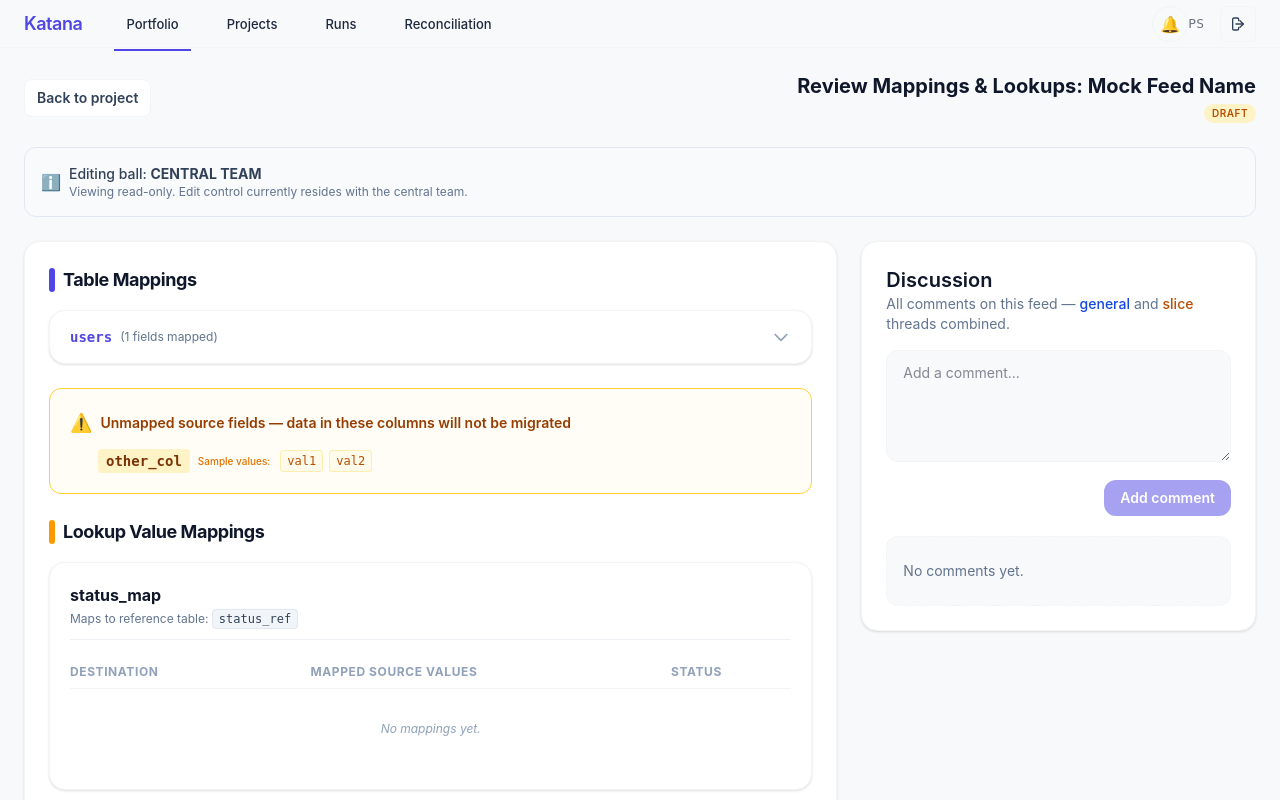
Test: ReviewPage › renders sample value chips under source fields when approved slice is present
Expected: the heading "Review Mappings & Lookups: Mock Feed Name" is shown, [797, 72, 1256, 100]
# Expand accordion
Click the button "users (1 fields mapped)" at [91, 337], box [50, 311, 811, 363]
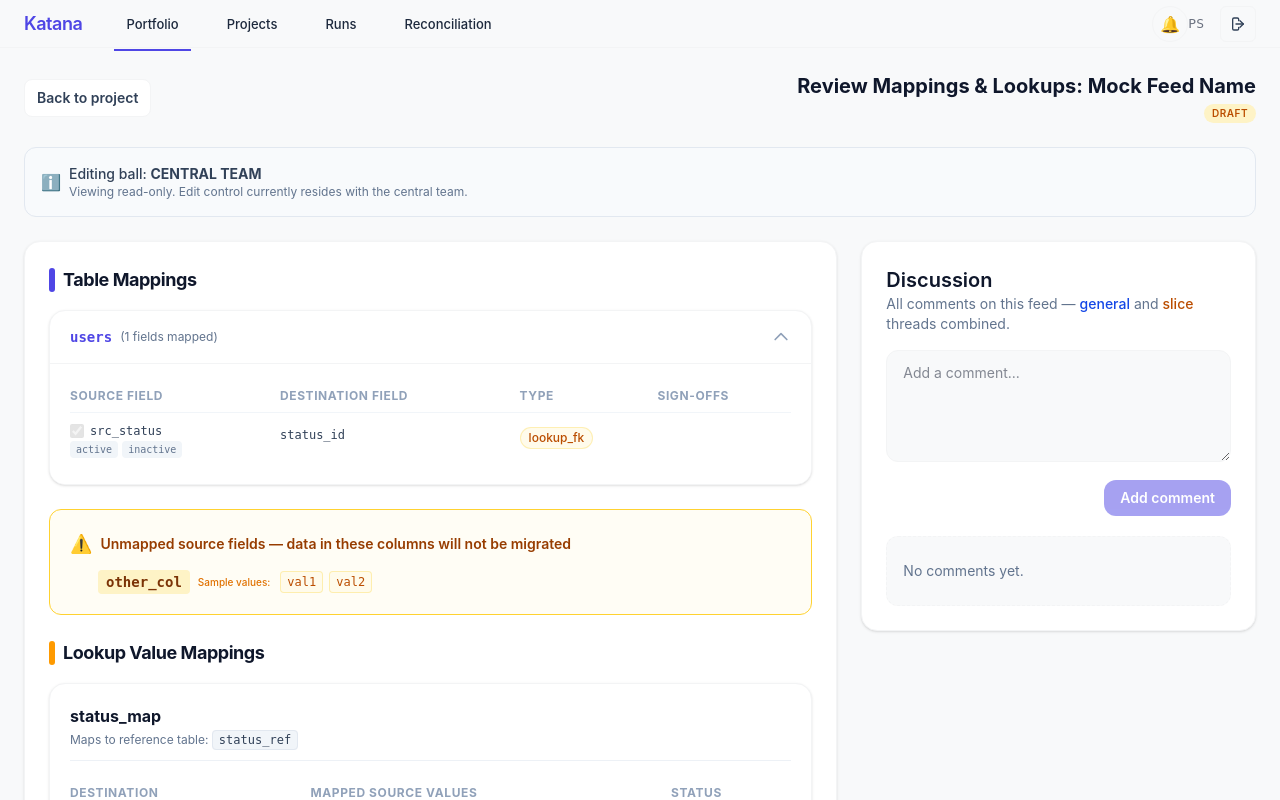
Now the text "active" is shown, box [70, 441, 118, 458]
Now the text "inactive" is shown, box [122, 441, 182, 458]
